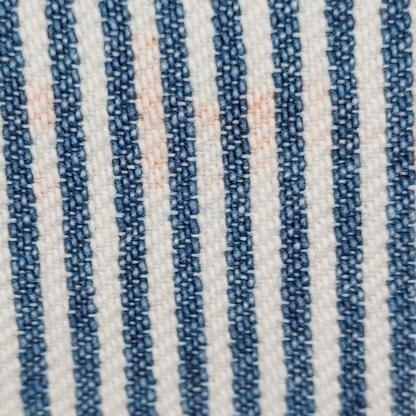spot: (7, 57, 416, 263)
